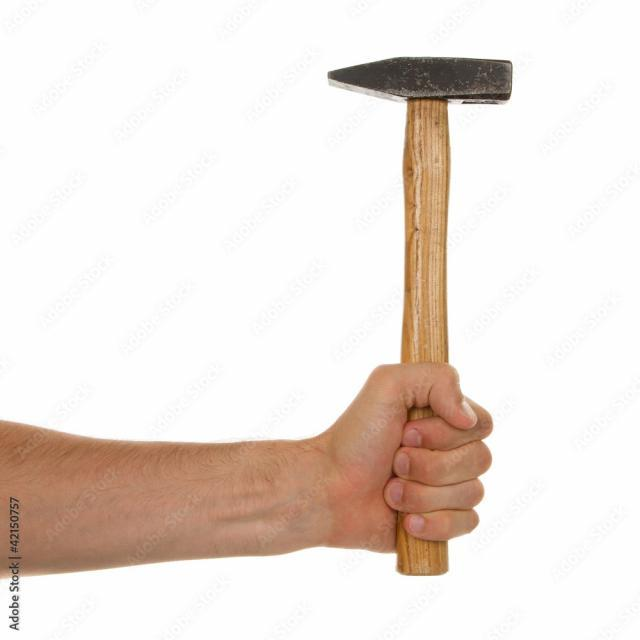hammer: (325, 37, 540, 601)
